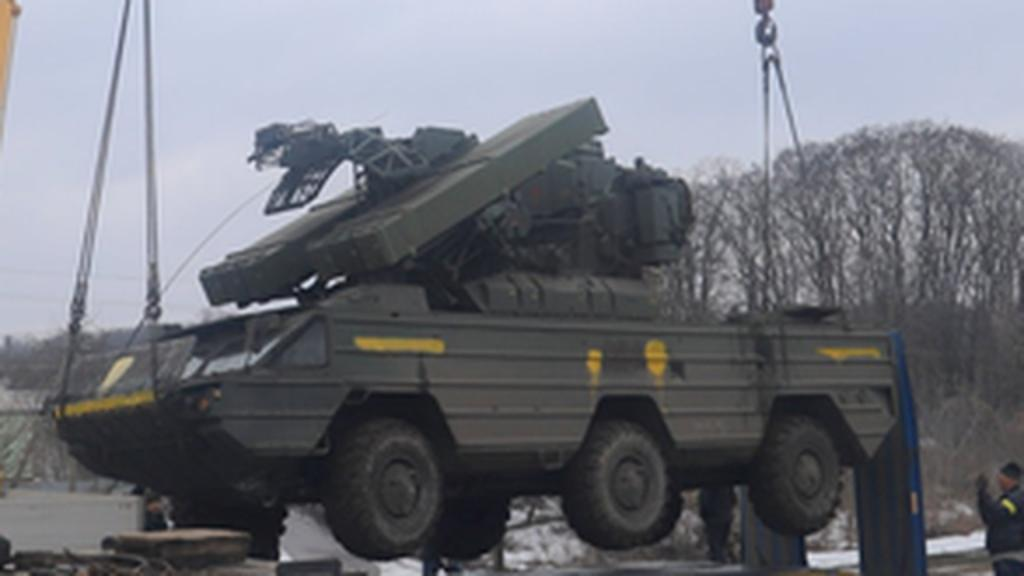MLRS: (44, 84, 904, 554)
